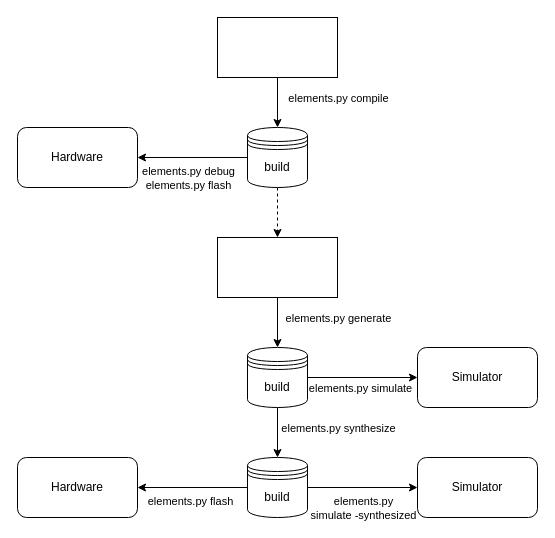
Some shapes in this 555 by 538 pixel diagram are drawn without their labels. Here are the shapes that lost their labels. From the top down, the box of each, then its label:
(216, 16, 338, 78): Zephyr
(216, 236, 338, 298): Zibal
